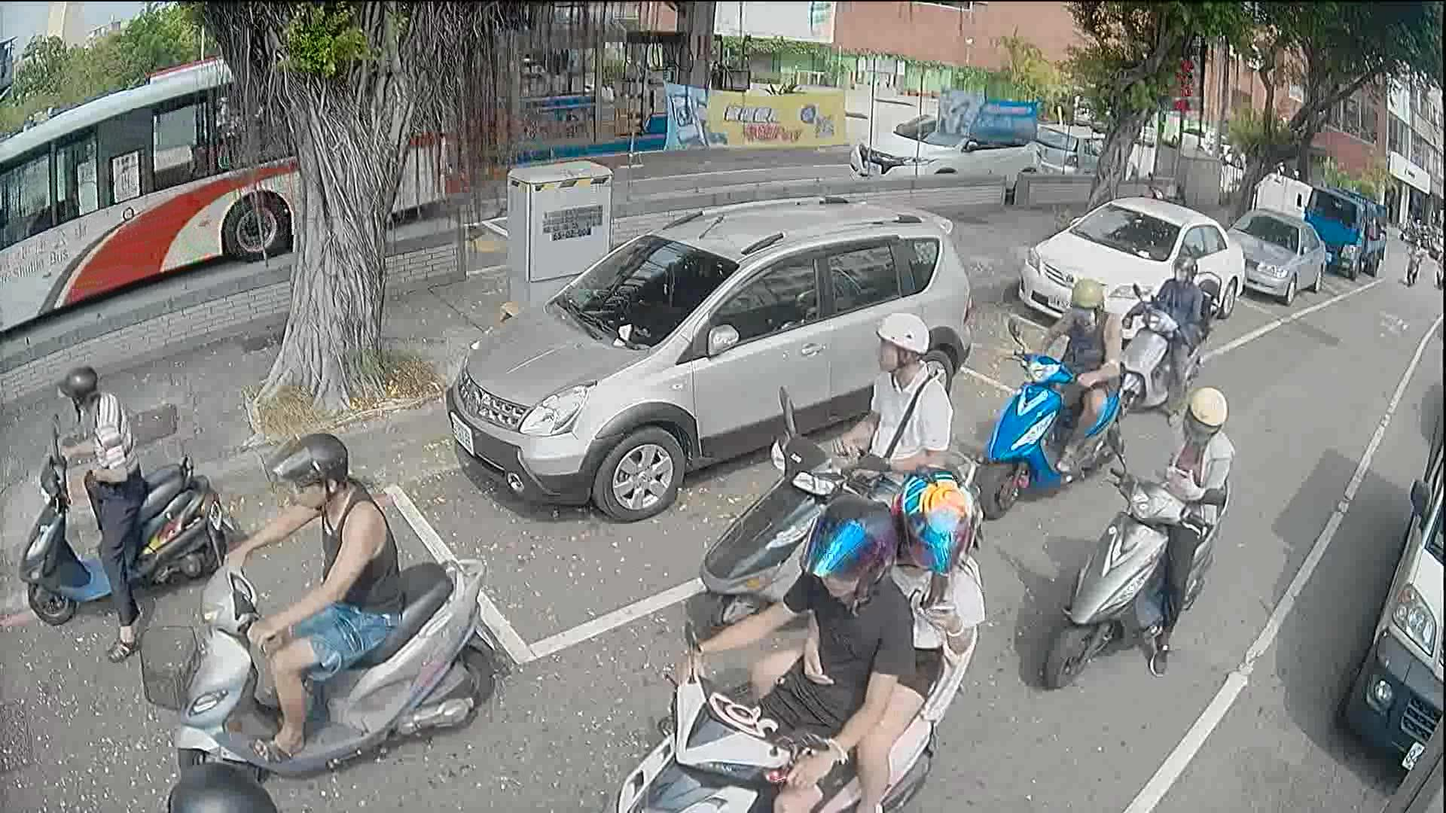person: (654, 488, 918, 812), (766, 474, 981, 812), (214, 423, 403, 769), (53, 361, 152, 666), (1130, 376, 1228, 676), (833, 309, 949, 506), (1022, 263, 1118, 474), (1146, 254, 1218, 413), (166, 741, 276, 812)
